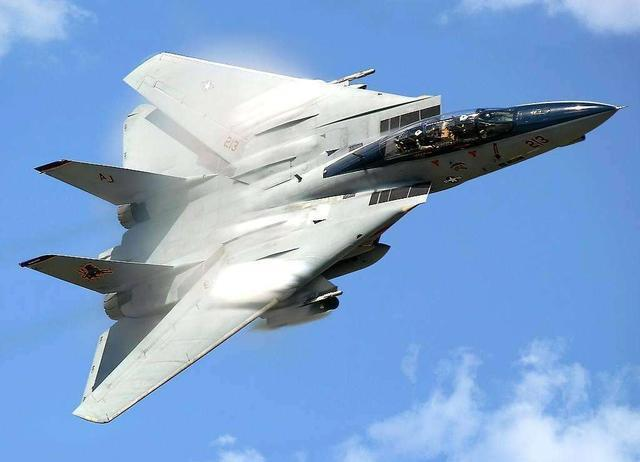airplane: (18, 50, 623, 425)
